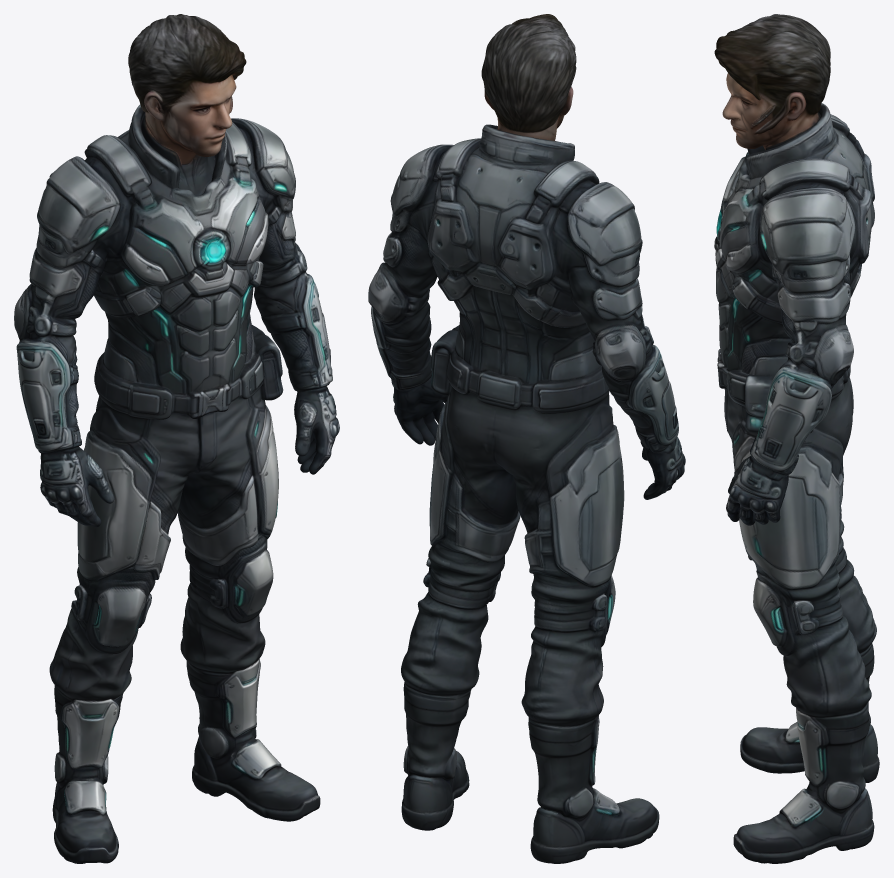
Rendered from hero_human_tier_4_source.glb.
3 renders of one model, left to right at view 1: azimuth 30°, elevation 25°; view 2: azimuth 150°, elevation 25°; view 3: azimuth 270°, elevation 25°, orthographic. The views are drawn at different scales.
Parts seen in each view (by area): view 1: tripo_node_efd55789-2d3d-4498-9f72-45493602b156; view 2: tripo_node_efd55789-2d3d-4498-9f72-45493602b156; view 3: tripo_node_efd55789-2d3d-4498-9f72-45493602b156.
Boxes of the visible parts, <box> form: tripo_node_efd55789-2d3d-4498-9f72-45493602b156: <box>14,14,339,863</box>; tripo_node_efd55789-2d3d-4498-9f72-45493602b156: <box>368,14,685,863</box>; tripo_node_efd55789-2d3d-4498-9f72-45493602b156: <box>714,14,879,863</box>.
Bounding box in the file's own units: 0.3808 × 1 × 0.1896.
Materials: 1 (1 with a texture image).
